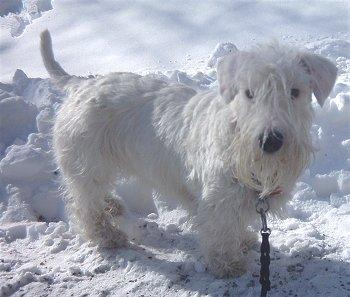wire-haired_fox_terrier: (40, 28, 340, 278)
